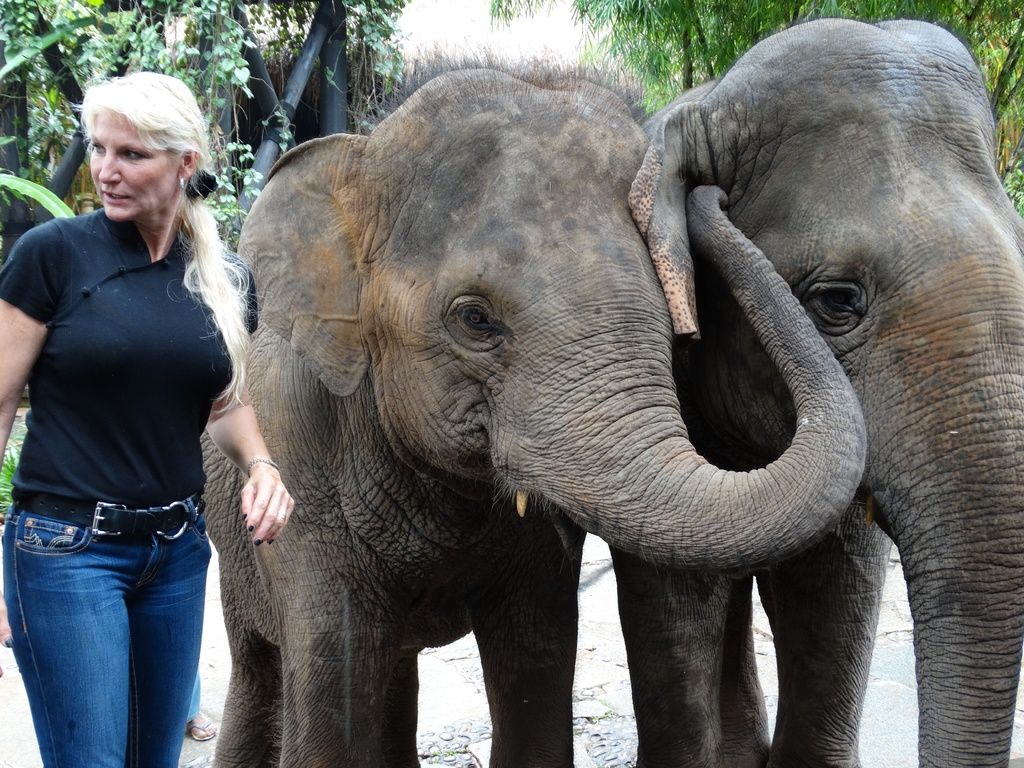Tree: (490, 0, 1024, 213)
